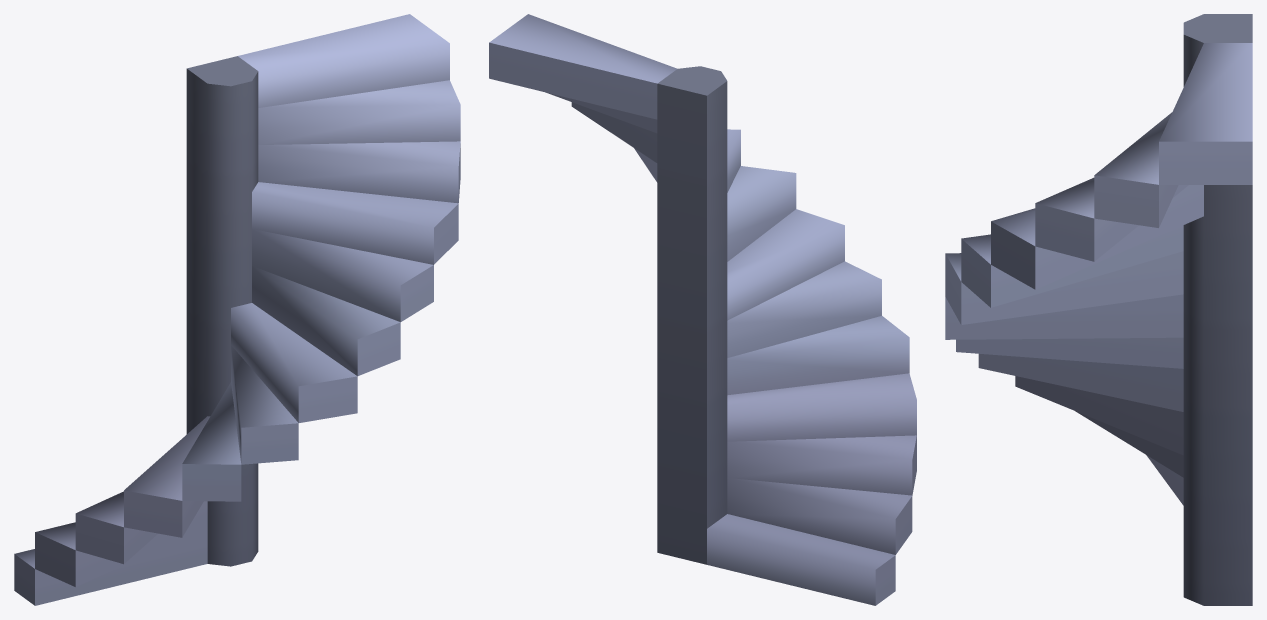
Rendered from stairs-stone-round.glb.
3 renders of one model, left to right at view 1: azimuth 30°, elevation 25°; view 2: azimuth 150°, elevation 25°; view 3: azimuth 270°, elevation 25°, orthographic. The views are drawn at different scales.
Visible parts, largest first — view 1: stairs-stone-round; view 2: stairs-stone-round; view 3: stairs-stone-round.
Boxes of the visible parts, box(x1,y1,x2,y2) form: stairs-stone-round: box(14, 14, 460, 605); stairs-stone-round: box(489, 14, 916, 605); stairs-stone-round: box(945, 14, 1252, 605).
Bounding box in the file's own units: 0.8618 × 1 × 0.4948.
1 material, 1 textured.
